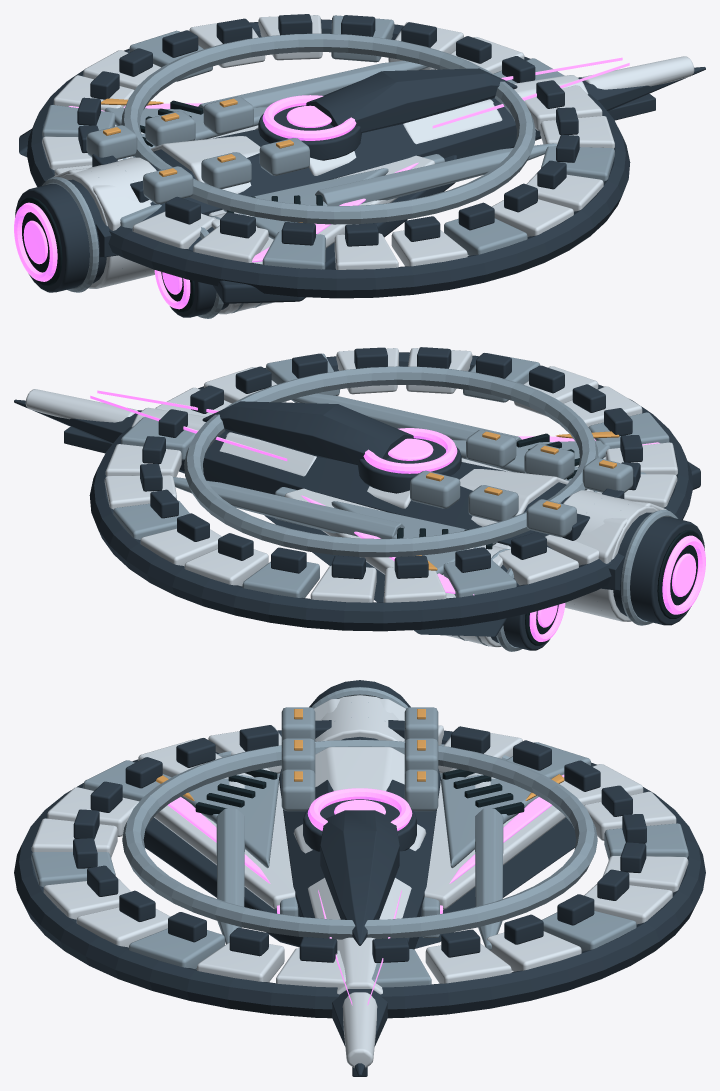
Rendered from ship-14.glb.
The picture shows the model from 3 angles, top to bottom: view 1: azimuth 30°, elevation 25°; view 2: azimuth 150°, elevation 25°; view 3: azimuth 270°, elevation 25°; orthographic projection. The views are drawn at different scales.
Visible parts, largest first — view 1: Graphite frame, Machined silver, Ceramic titanium, Ion violet, Carbon insets, Copper contacts; view 2: Graphite frame, Machined silver, Ceramic titanium, Ion violet, Carbon insets, Copper contacts; view 3: Graphite frame, Machined silver, Ceramic titanium, Ion violet, Carbon insets, Copper contacts.
Part boxes in pixels (x1,y1,x2,y2): Graphite frame: (15,14,705,317); Machined silver: (42,15,614,318); Ceramic titanium: (42,15,694,314); Ion violet: (14,57,629,309); Carbon insets: (17,100,322,312); Copper contacts: (101,98,302,222); Graphite frame: (14,347,704,650); Machined silver: (113,353,677,651); Ceramic titanium: (25,348,677,647); Ion violet: (90,390,705,641); Carbon insets: (397,433,702,645); Copper contacts: (416,431,619,570); Graphite frame: (14,680,705,1076); Machined silver: (31,687,688,987); Ceramic titanium: (31,695,688,1067); Ion violet: (168,774,564,1005); Carbon insets: (195,769,524,815); Copper contacts: (156,709,564,800).
Bounding box in the file's own units: 5.61 × 1.09 × 4.56.
